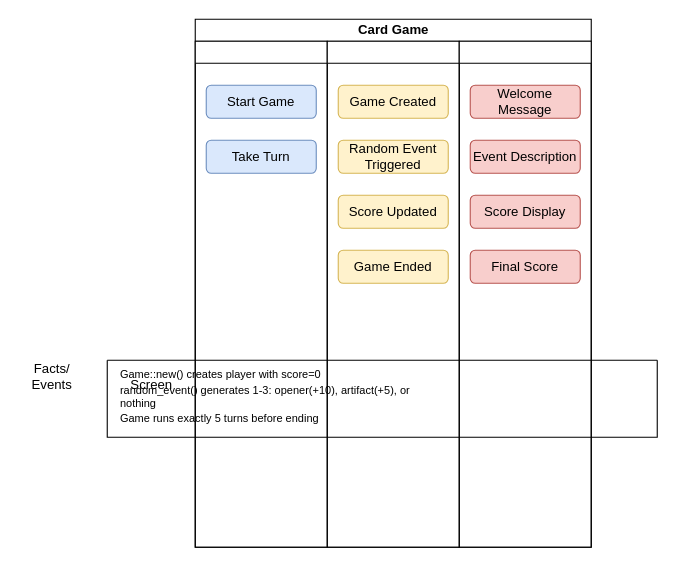
Image size: 677x567. Some labels were removed from this diagram. Each missing label, with the box of its shape:
Game Events: (326, 40, 459, 547)
Player Actions: (194, 40, 327, 547)
System Output: (458, 40, 591, 547)
